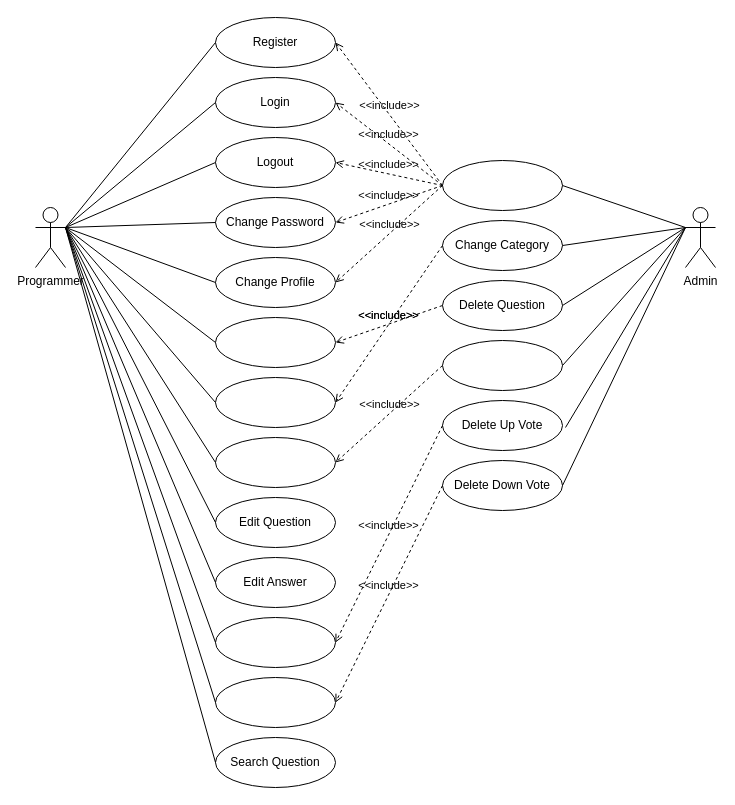
This 735x805 diagram has some shape labels left out. Here are the shapes that lost their labels. From the top down, the box of each, then its label:
(442, 160, 562, 210): Manage Users
(214, 316, 336, 368): Add Question
(442, 340, 562, 390): Delete Answer
(214, 376, 336, 428): Select Category
(214, 436, 336, 488): Add Answer
(214, 616, 336, 668): Up Vote
(214, 676, 336, 728): Down Vote
